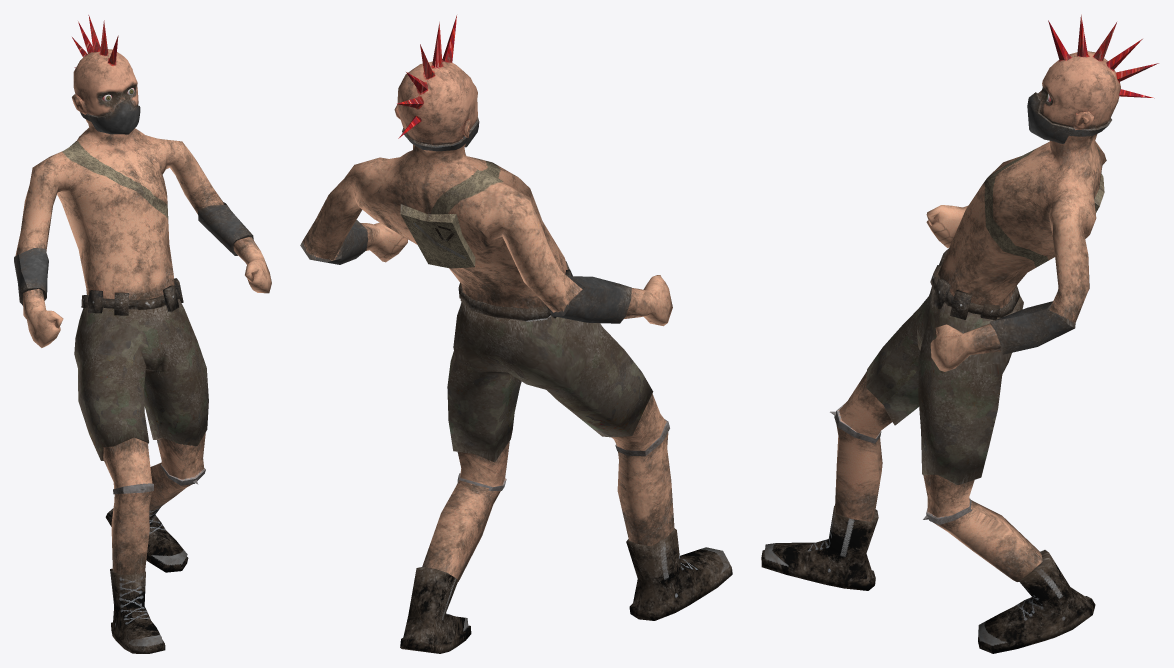
Rendered from Anim_morir_1_npc2.0028.obj.
3 renders of one model, left to right at view 1: azimuth 30°, elevation 25°; view 2: azimuth 150°, elevation 25°; view 3: azimuth 270°, elevation 25°, orthographic. The views are drawn at different scales.
Visible parts, largest first — view 1: polySurface1; view 2: polySurface1; view 3: polySurface1.
Part boxes in pixels (left/top/right/bottom): polySurface1: left=14, top=15, right=271, bottom=653; polySurface1: left=300, top=15, right=732, bottom=653; polySurface1: left=761, top=14, right=1158, bottom=653.
Bounding box in the file's own units: 4.44 × 9.24 × 5.42.
